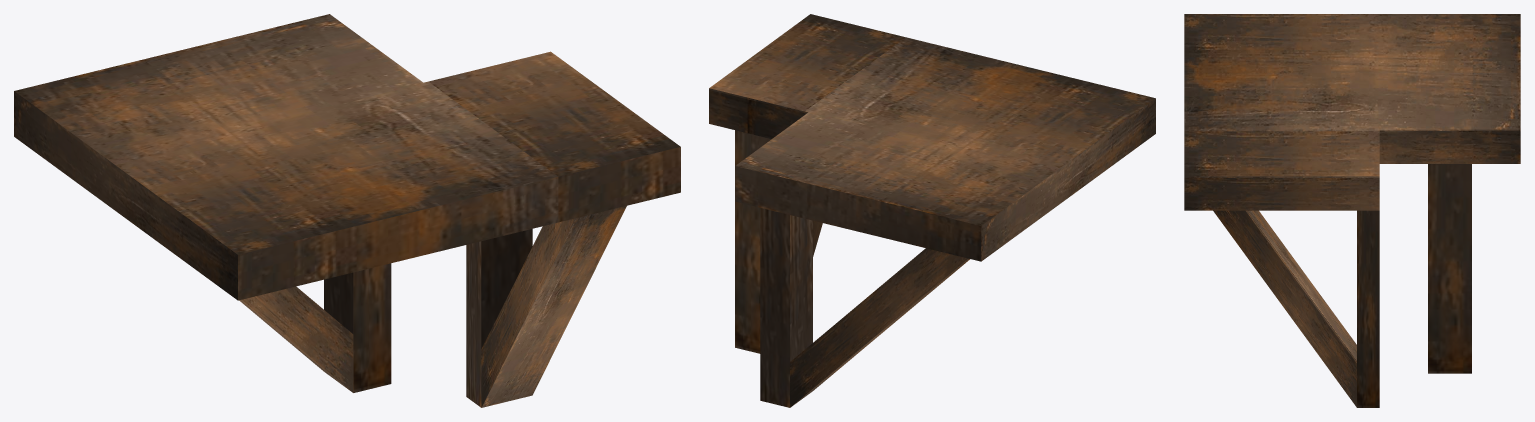
The model's file is 등 받침대.FBX.
3 renders of one model, left to right at view 1: azimuth 30°, elevation 25°; view 2: azimuth 150°, elevation 25°; view 3: azimuth 270°, elevation 25°, orthographic. The views are drawn at different scales.
Visible parts, largest first — view 1: 등 받침대; view 2: 등 받침대; view 3: 등 받침대.
Part boxes in pixels (x1=…): 등 받침대: x1=14, y1=14, x2=680, y2=407; 등 받침대: x1=709, y1=14, x2=1155, y2=407; 등 받침대: x1=1184, y1=14, x2=1520, y2=407.
Size of the model in its own units: 16.92 by 11.85 by 14.81.
